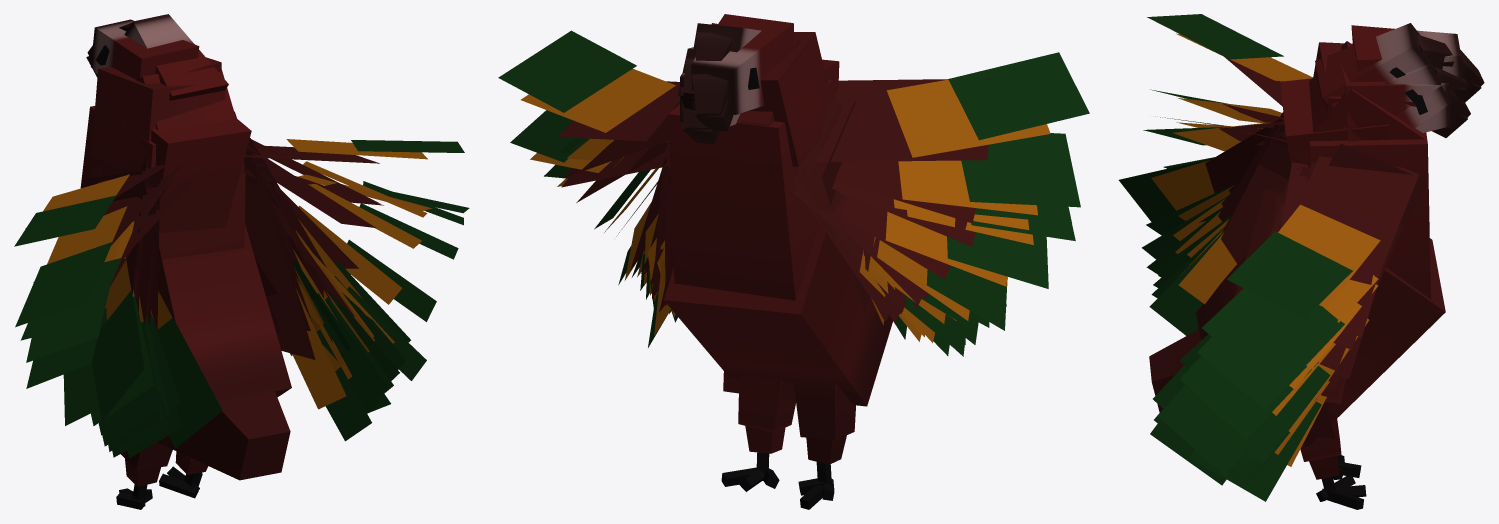
The model's file is parrot_01_quill.fbx.
3 views of the same model, side by side, from view 1: azimuth 30°, elevation 25°; view 2: azimuth 150°, elevation 25°; view 3: azimuth 270°, elevation 25° (orthographic). The views are drawn at different scales.
Visible parts, largest first — view 1: NewLayer0; view 2: NewLayer0; view 3: NewLayer0.
Boxes of the visible parts, x1,y1,x2,y2 form: NewLayer0: (14, 14, 469, 509); NewLayer0: (498, 14, 1089, 509); NewLayer0: (1119, 14, 1484, 509).
Bounding box in the file's own units: 11.91 × 10.4 × 7.33.
